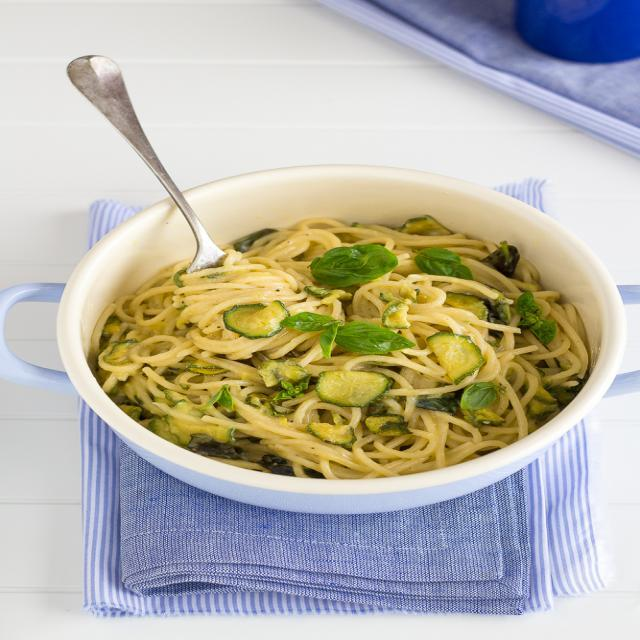Oil pasta: (26, 147, 640, 561)
